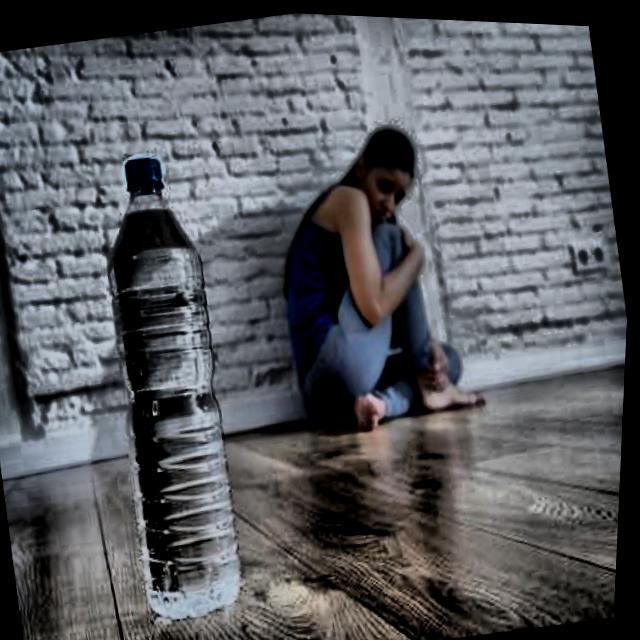Bottles: (41, 116, 305, 640)
